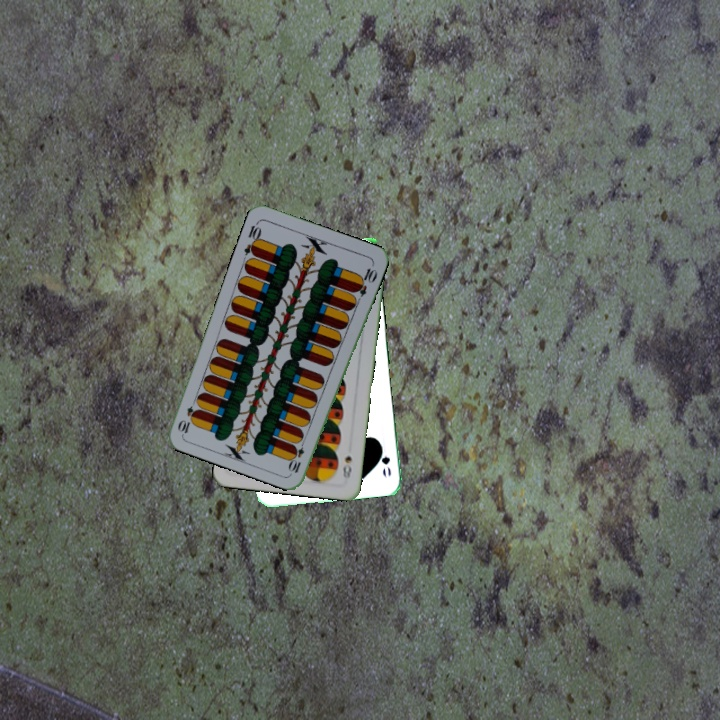E10: (240, 218, 264, 258), (286, 435, 308, 475)
GO: (375, 439, 393, 480)
S8: (339, 451, 354, 484)
